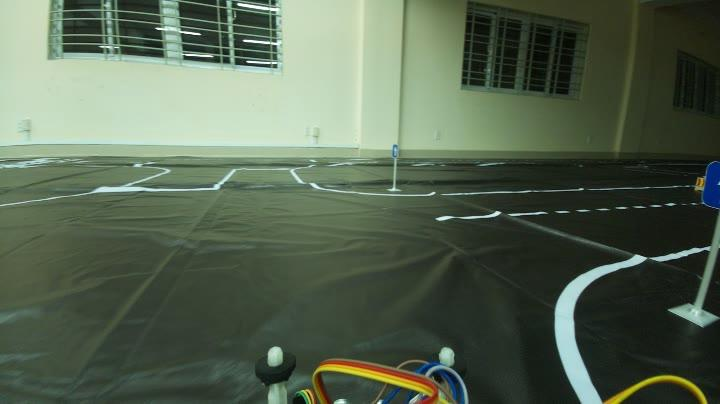onewayroad: (696, 157, 720, 202), (389, 142, 412, 168)
